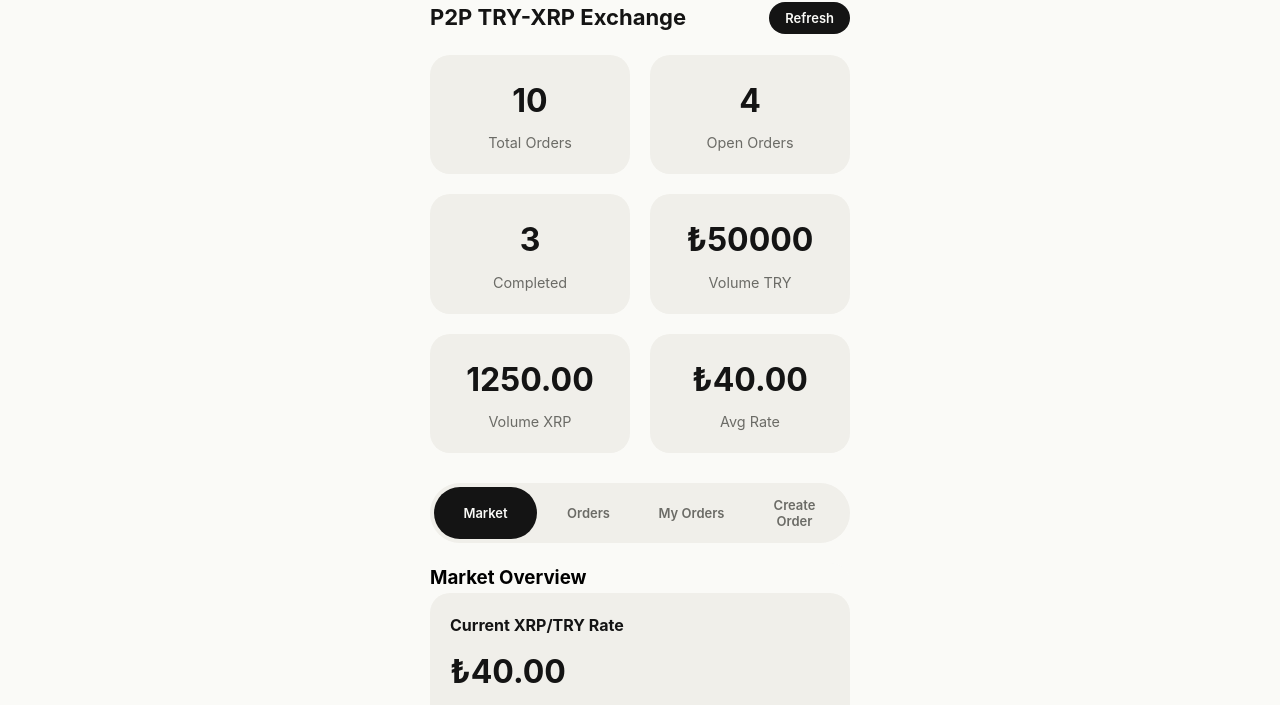
P2PExchange › matching requires an own open counter-order
Note: wait for empty my-orders fetch for the logged-in wallet address
Click the button "My Orders". click: point(692, 513)
box: [640,487,743,539]
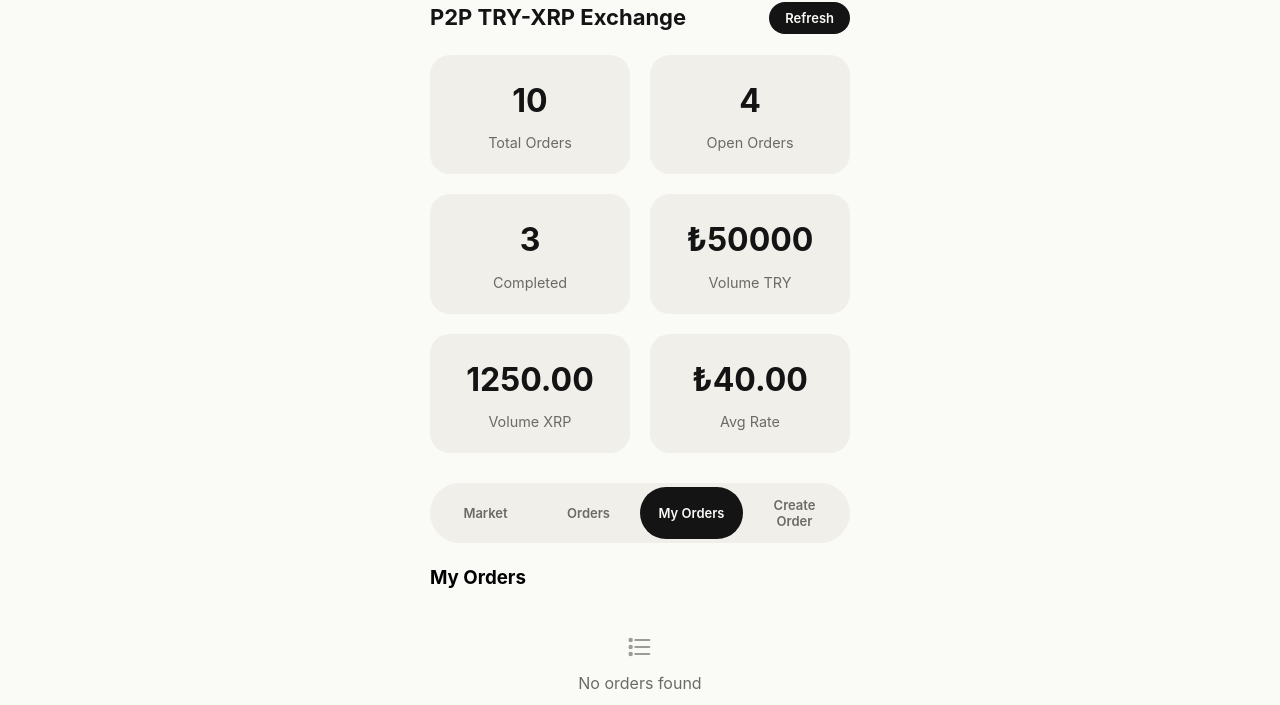
Click the button "Market". click: point(486, 513)
box: [434,487,537,539]
(page scrolled)
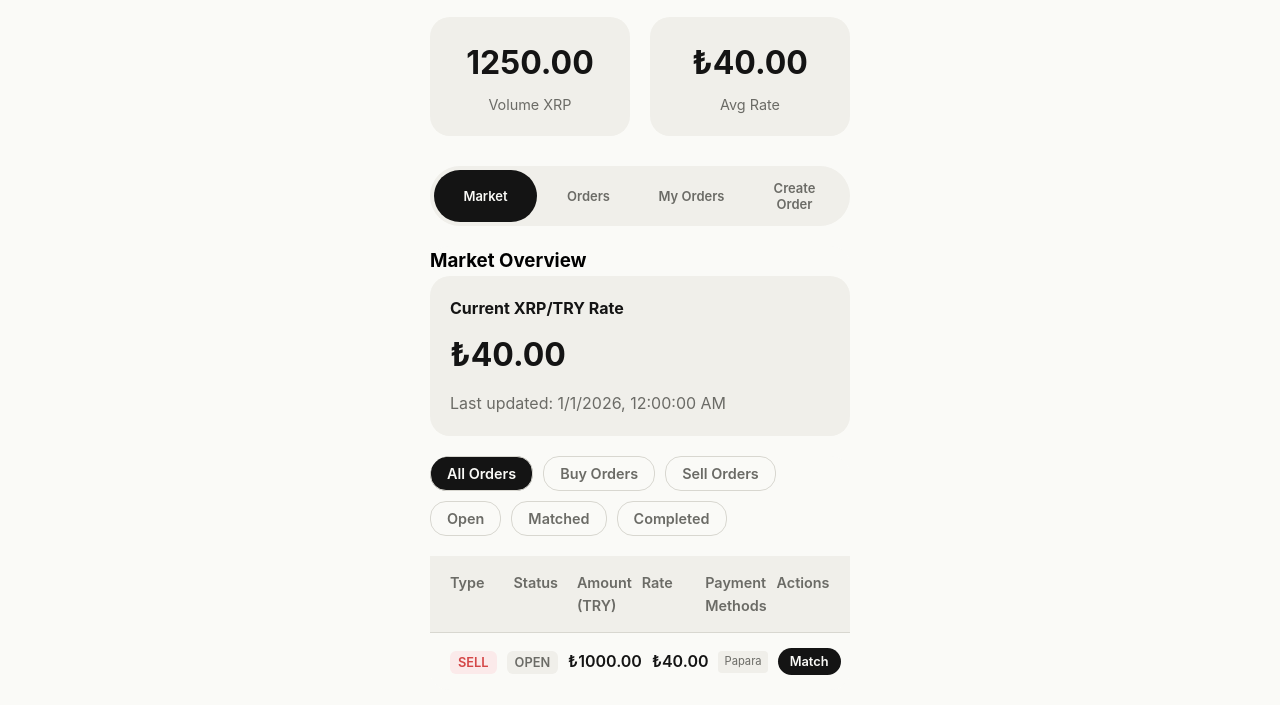
expect the text "₺1000.00" is shown: met, box [568,651,642,671]
Click the button "Match". click: point(809, 662)
box: [778,648,840,675]
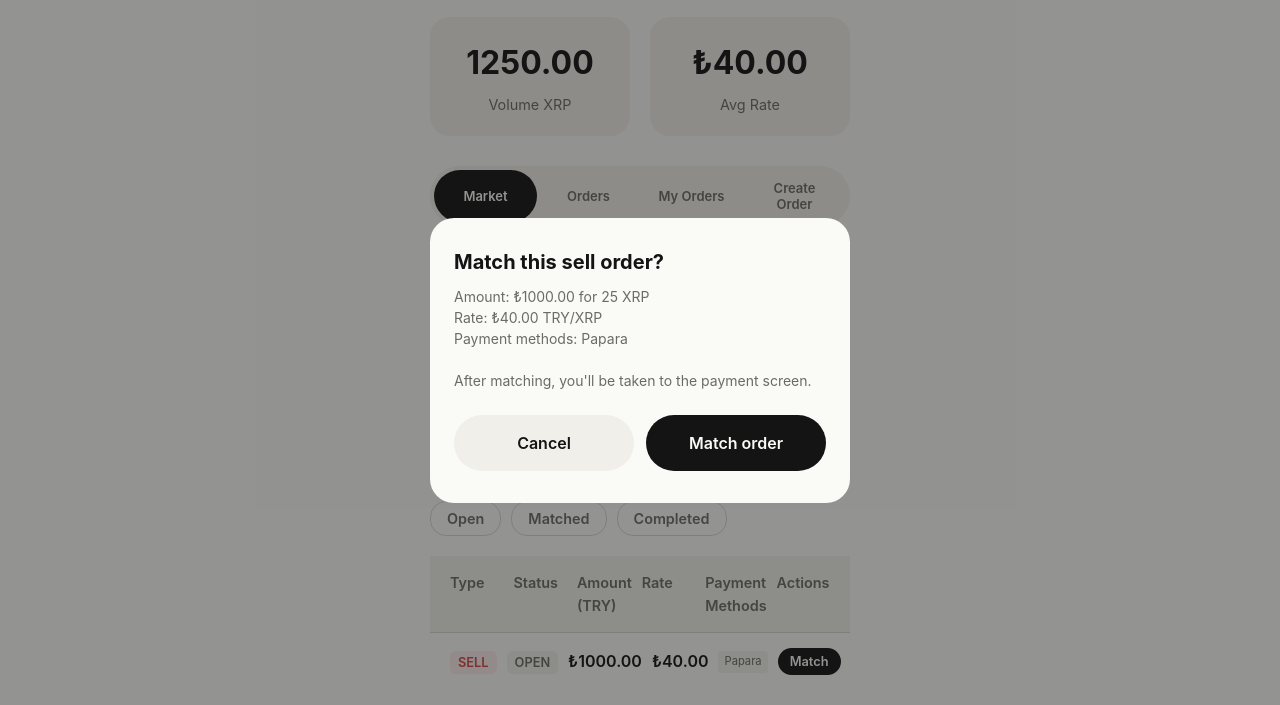
Click the button "Match order". click: point(736, 442)
box: [646,414,826,470]
(page scrolled)
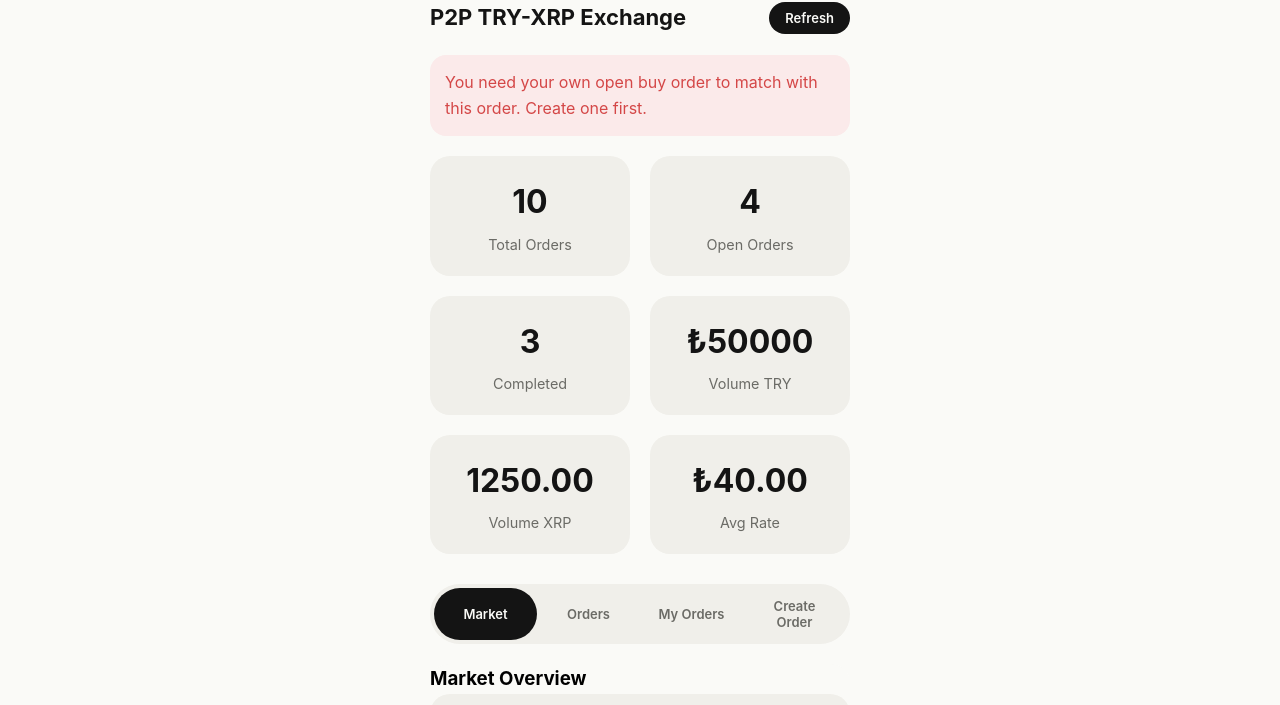
expect the text "You need your own open buy order" is shown: met, box [445,72,818,118]
